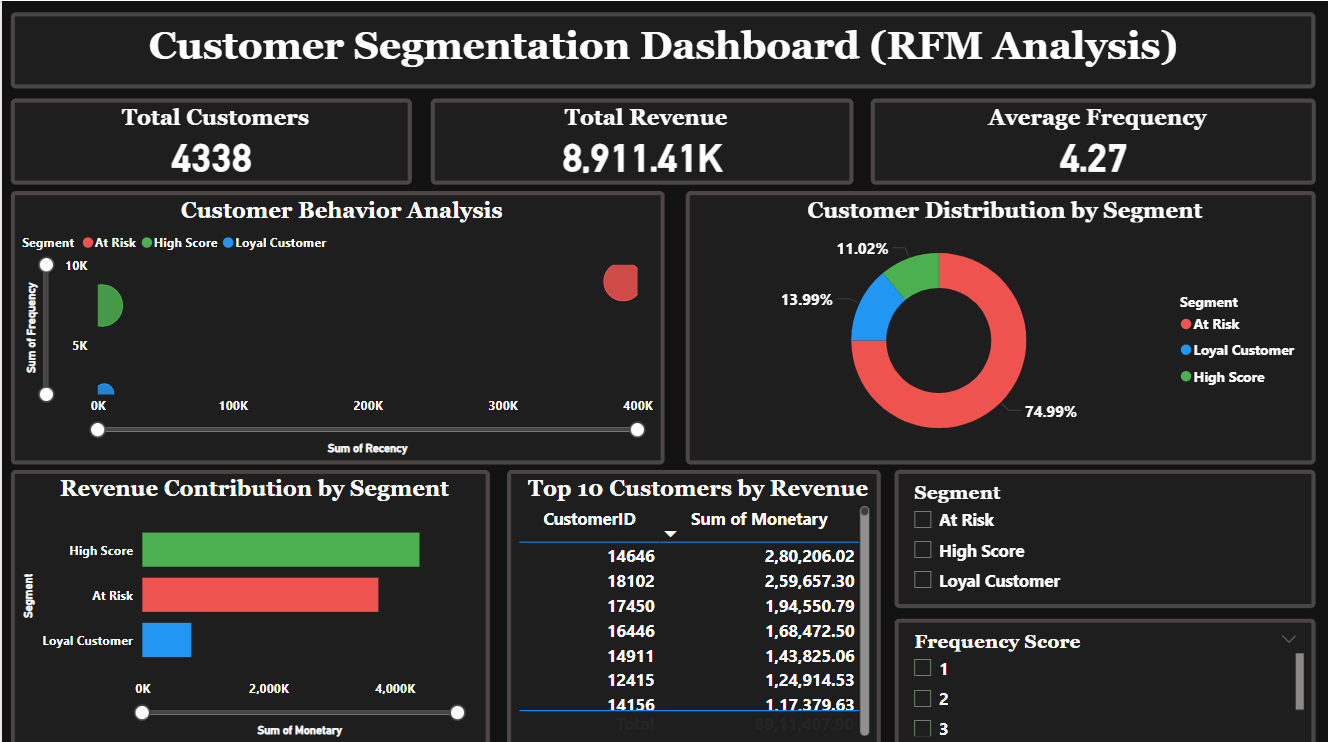

Layout of this report page (visuals, bound fields, positions):
{"tool":"powerbi","page":{"name":"Page 1","canvas":[1280,720],"ordinal":0},"visuals":[{"type":"donutChart","title":"Customer Distribution by Segment","fields":{"Y":["CountNonNull(rfm_output.CustomerID)"],"Category":["rfm_output.Segment"]},"box":[659.9,183.4,608,264.2],"z":0},{"type":"barChart","title":"Revenue Contribution by Segment","fields":{"Category":["rfm_output.Segment"],"Y":["Sum(rfm_output.Monetary)"]},"box":[8.6,452.4,462.2,267.8],"z":1000},{"type":"tableEx","title":"Top 10 Customers by Revenue","fields":{"Values":["rfm_output.CustomerID","Sum(rfm_output.Monetary)"]},"box":[487.9,452.4,360.7,267.8],"z":2000},{"type":"scatterChart","title":"Customer Behavior Analysis","fields":{"X":["Sum(rfm_output.Recency)"],"Y":["Sum(rfm_output.Frequency)"],"Series":["rfm_output.Segment"],"Size":["Sum(rfm_output.Monetary)"]},"box":[8.4,183.4,631,264.2],"z":3000},{"type":"slicer","fields":{"Values":["rfm_output.Segment"]},"box":[861.4,452.4,406.6,133.9],"z":4000},{"type":"slicer","fields":{"Values":["rfm_output.F_Score"]},"box":[861.4,596,406.6,124.3],"z":5000},{"type":"card","title":"Total Customers","fields":{"Values":["CountNonNull(rfm_output.CustomerID)"]},"box":[8.4,94.1,387.3,83.2],"z":6000},{"type":"card","title":"Total Revenue","fields":{"Values":["Sum(rfm_output.Monetary)"]},"box":[413.8,94.1,407.8,83.2],"z":7000},{"type":"card","title":"Average Frequency","fields":{"Values":["Avg(rfm_output.Frequency)"]},"box":[838.5,94.1,429.5,83.2],"z":8000},{"type":"textbox","box":[8.4,10.9,1259.5,73.6],"z":9000}]}

Visuals, with their boxes in screenshot pixels (x1, y1, x2, y2), scaled from the page's 1280x720 canvas onto the 1328x742 screenshot:
"Customer Distribution by Segment" donutChart: BBox(685, 189, 1315, 461)
"Revenue Contribution by Segment" barChart: BBox(9, 466, 488, 741)
"Top 10 Customers by Revenue" tableEx: BBox(506, 466, 880, 741)
"Customer Behavior Analysis" scatterChart: BBox(9, 189, 663, 461)
slicer - rfm_output.Segment: BBox(894, 466, 1316, 604)
slicer - rfm_output.F_Score: BBox(894, 614, 1316, 741)
"Total Customers" card: BBox(9, 97, 411, 183)
"Total Revenue" card: BBox(429, 97, 852, 183)
"Average Frequency" card: BBox(870, 97, 1316, 183)
textbox: BBox(9, 11, 1315, 87)
